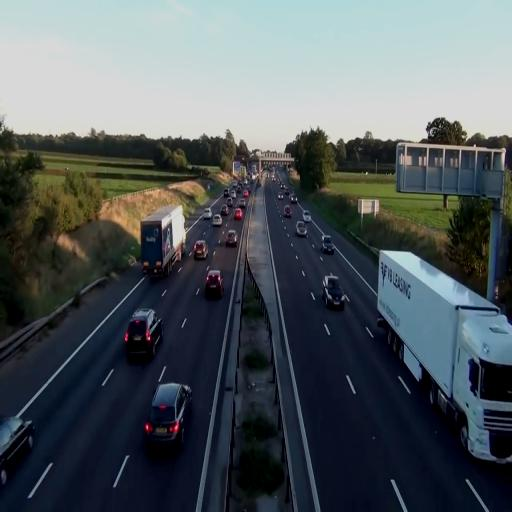vehicle: (375, 249, 512, 464), (144, 381, 192, 452), (140, 205, 186, 279), (0, 416, 35, 490), (124, 307, 163, 359), (322, 276, 346, 310), (204, 267, 224, 299), (194, 240, 208, 261), (224, 228, 238, 246), (322, 234, 334, 254), (296, 222, 308, 236), (234, 205, 243, 221), (203, 209, 213, 223)
